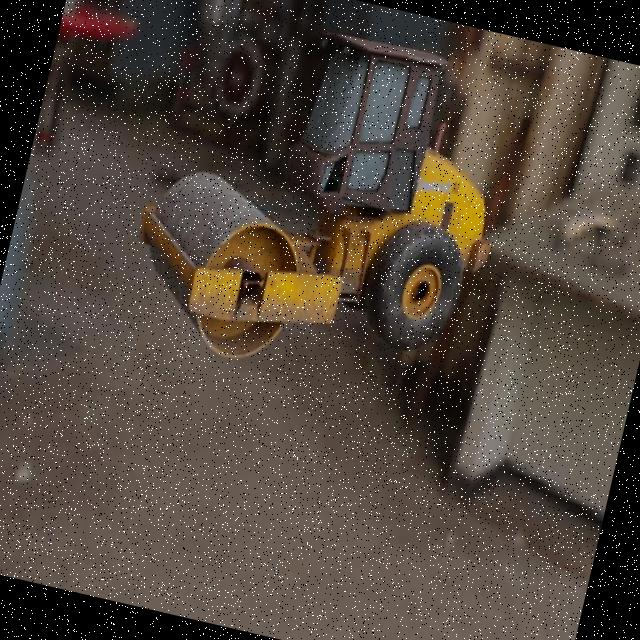Roller: (114, 0, 529, 408)
